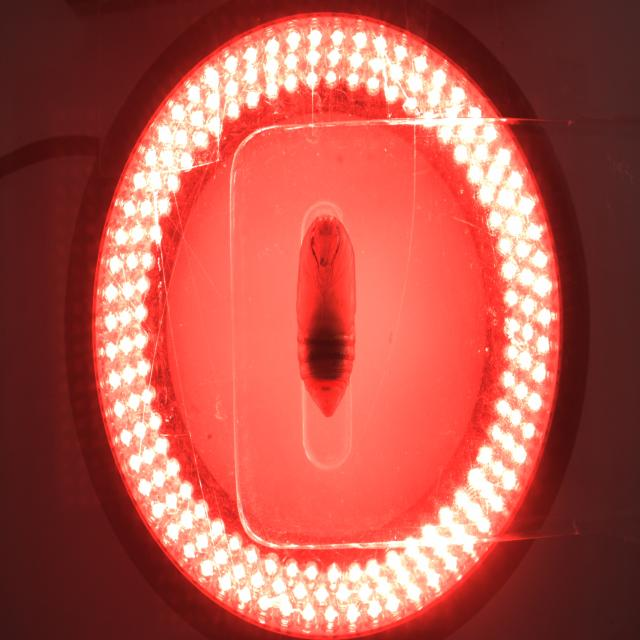male: (318, 384, 337, 395)
